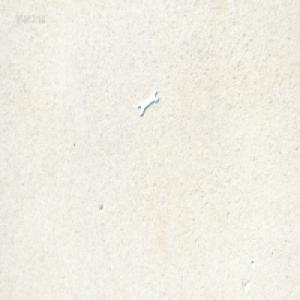Wrench: (137, 90, 159, 116)
